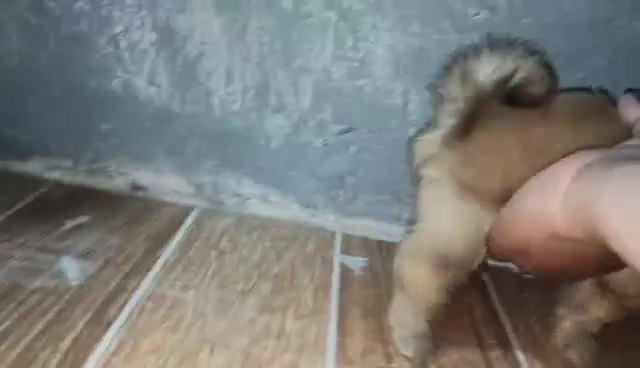dog: (386, 48, 640, 368)
